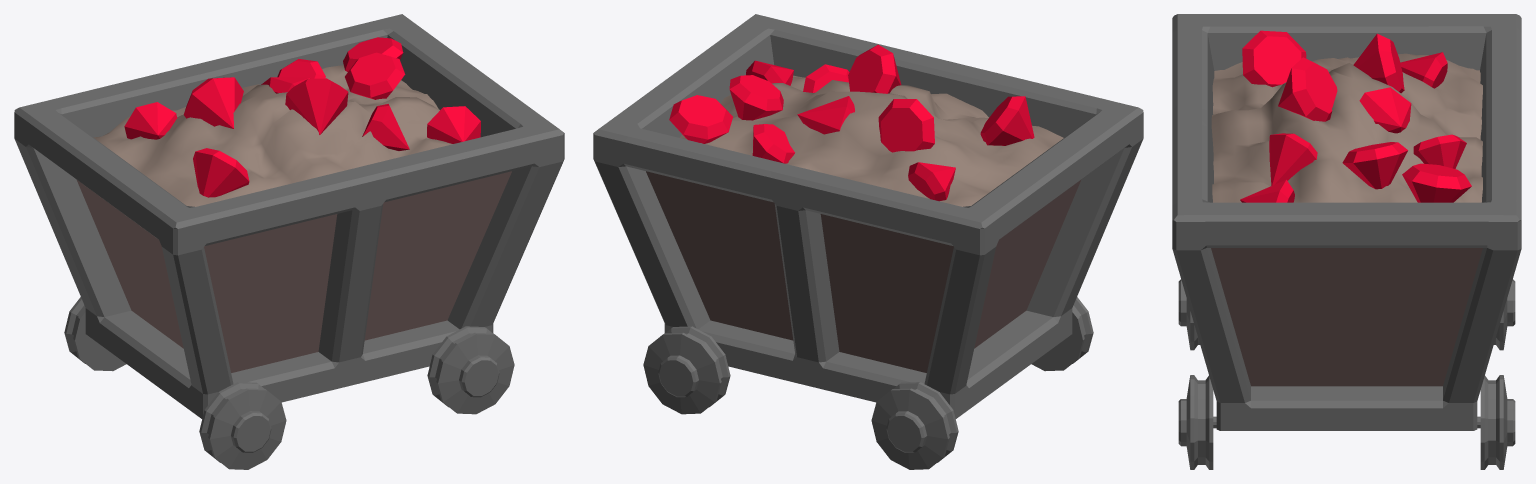
Rendered from Minecart_Ruby.fbx.
The picture shows the model from 3 angles, left to right: view 1: azimuth 30°, elevation 25°; view 2: azimuth 150°, elevation 25°; view 3: azimuth 270°, elevation 25°; orthographic projection. The views are drawn at different scales.
Visible parts, largest first — view 1: Minecart_Ruby_Dirt; view 2: Minecart_Ruby_Dirt; view 3: Minecart_Ruby_Dirt.
Part boxes in pixels (box(x1,y1,x2,y2)): Minecart_Ruby_Dirt: box(14, 14, 564, 469); Minecart_Ruby_Dirt: box(593, 14, 1143, 469); Minecart_Ruby_Dirt: box(1172, 14, 1521, 469).
Bounding box in the file's own units: 247 × 194 × 177.
